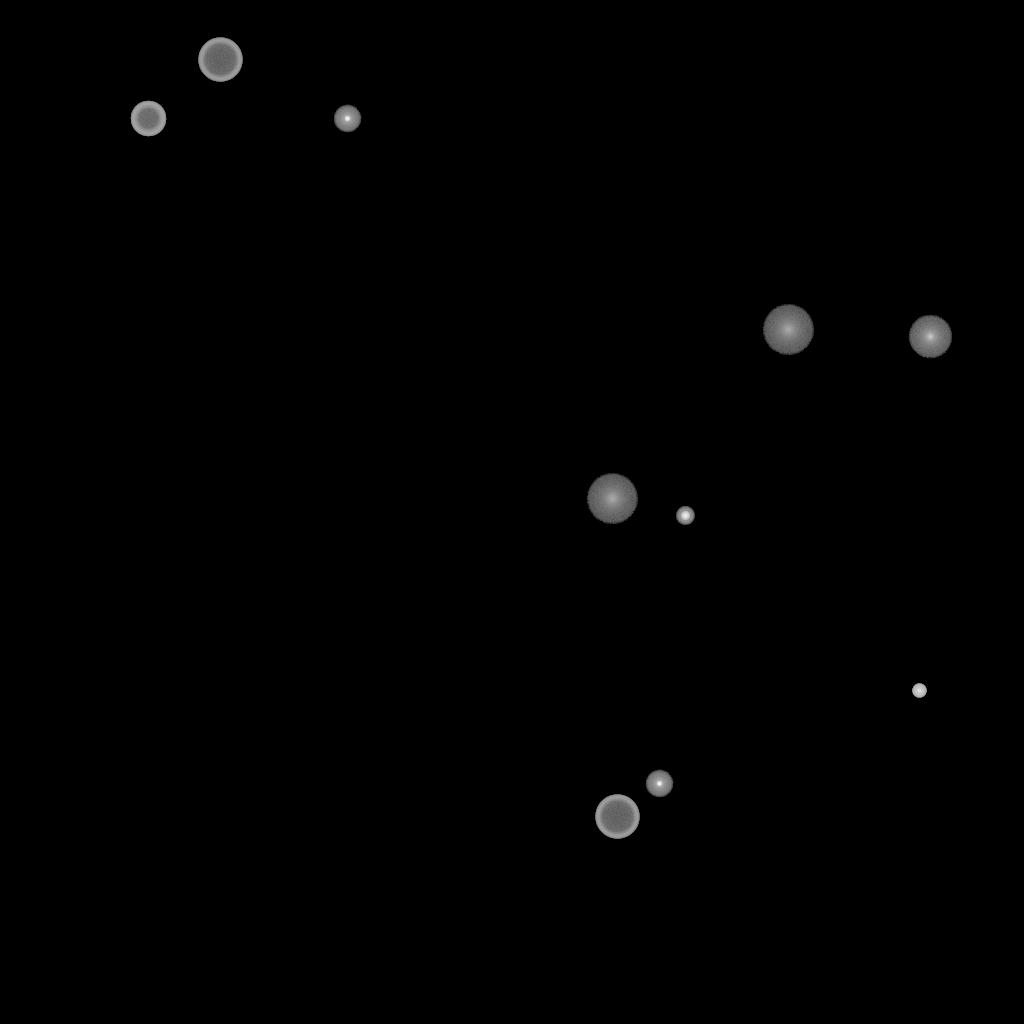depth:-10: (333, 105, 361, 133), (645, 770, 673, 798)
depth:-20: (676, 507, 694, 525)
depth:-30: (912, 684, 926, 698)
depth:-60: (130, 101, 166, 137)
depth:-70: (198, 38, 242, 82), (595, 795, 639, 839)
depth:10: (908, 315, 952, 359)
depth:20: (762, 305, 814, 355), (586, 474, 638, 524)
